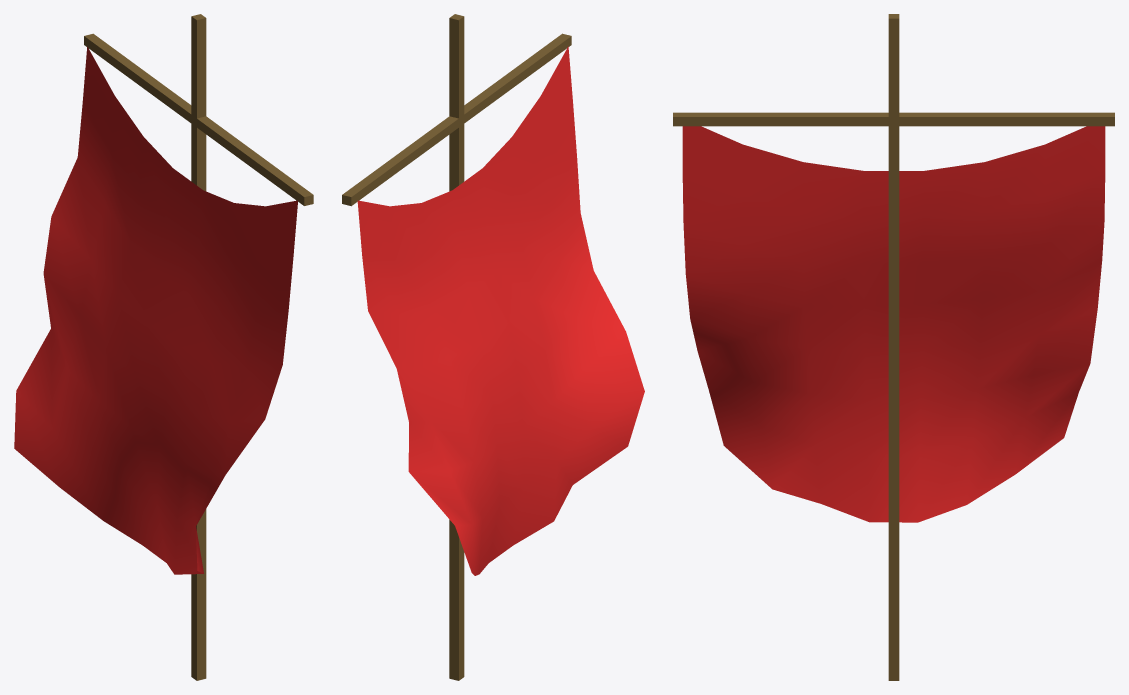
Rendered from BannerGround.FBX.
3 renders of one model, left to right at view 1: azimuth 30°, elevation 25°; view 2: azimuth 150°, elevation 25°; view 3: azimuth 270°, elevation 25°, orthographic.
Visible parts, largest first — view 1: Box068; view 2: Box068; view 3: Box068.
Boxes of the visible parts, x1=… form: Box068: x1=14, y1=14, x2=313, y2=680; Box068: x1=342, y1=14, x2=644, y2=680; Box068: x1=673, y1=14, x2=1114, y2=680.
Size of the model in its own units: 33.35 by 202 by 122.
